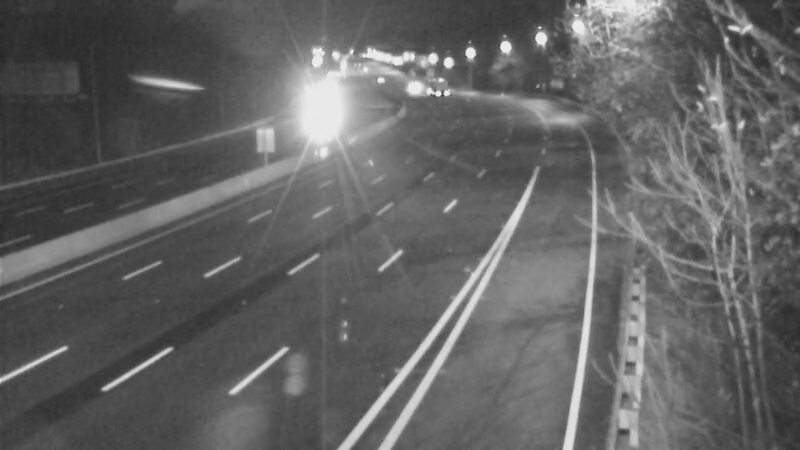vehicle: (386, 62, 436, 112), (408, 58, 458, 108), (300, 91, 350, 141)
